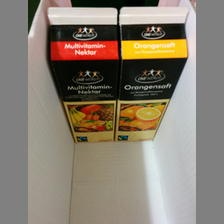juice: (46, 8, 120, 143), (115, 8, 189, 142)
